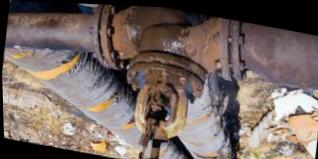leak: (126, 6, 191, 121)
